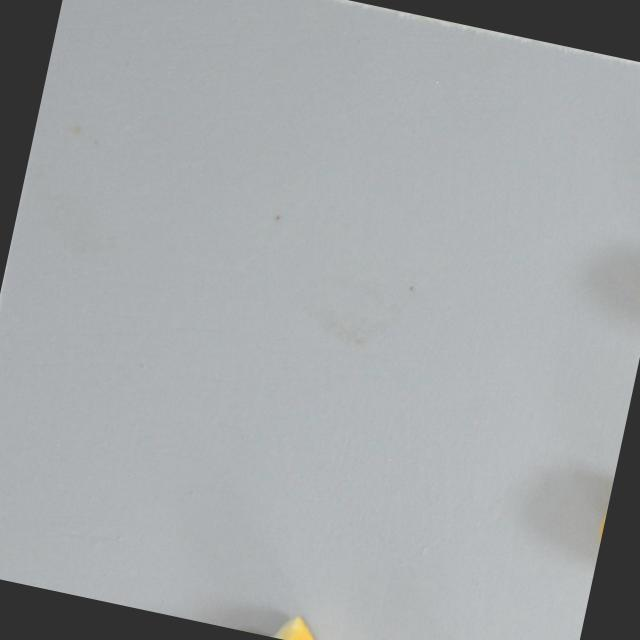no_canjicado: (224, 600, 352, 640)
